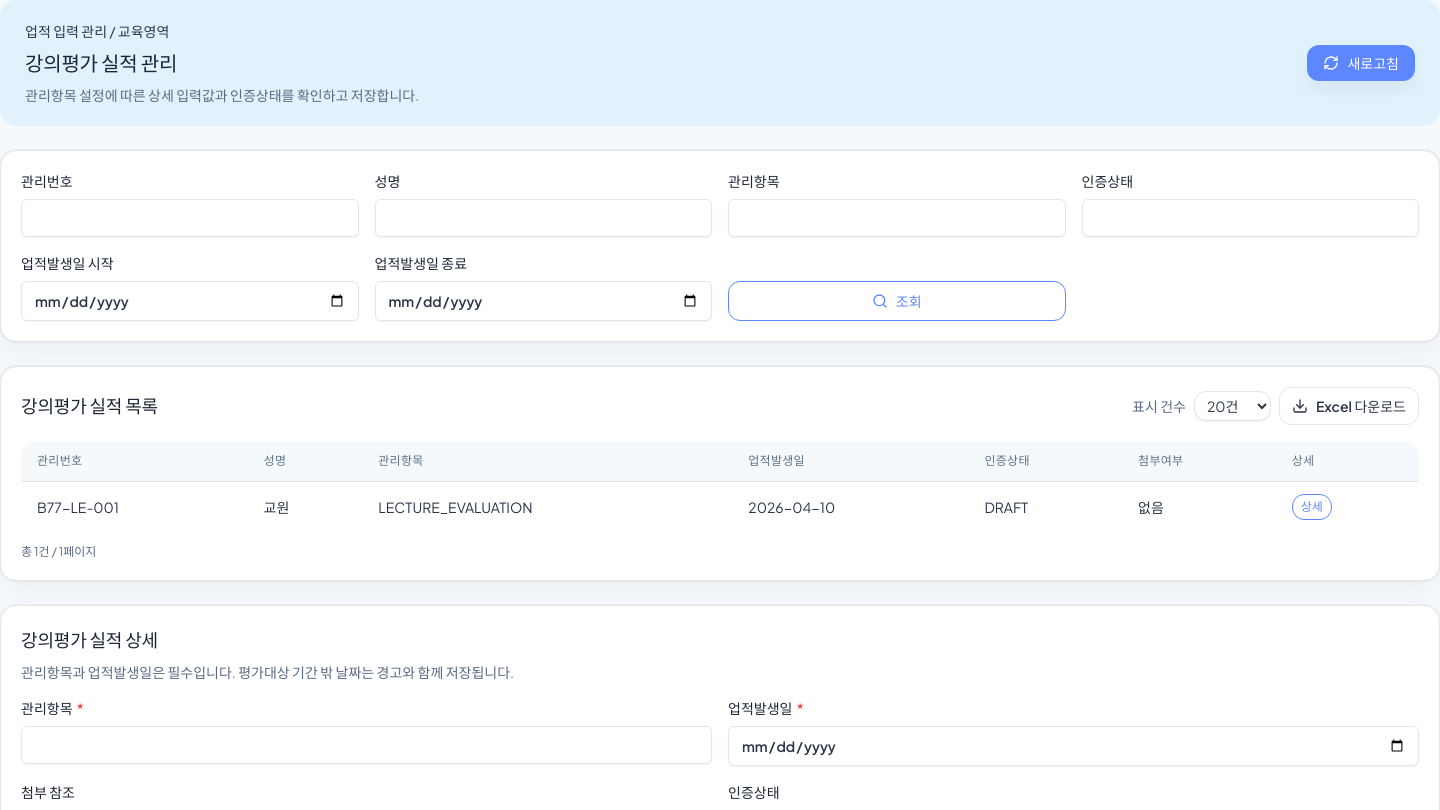
Test: SCR-LECTURE-EVALUATION-ACHIEVEMENT-MGMT › saves the selected dynamic detail and refreshes the list after success
Expected: the text "B77-LE-001" is shown, [21,482,248,532]
Click the button with test id "lecture-evaluation-detail-button": (1312, 507) [1292,494,1332,520]
(page scrolled)
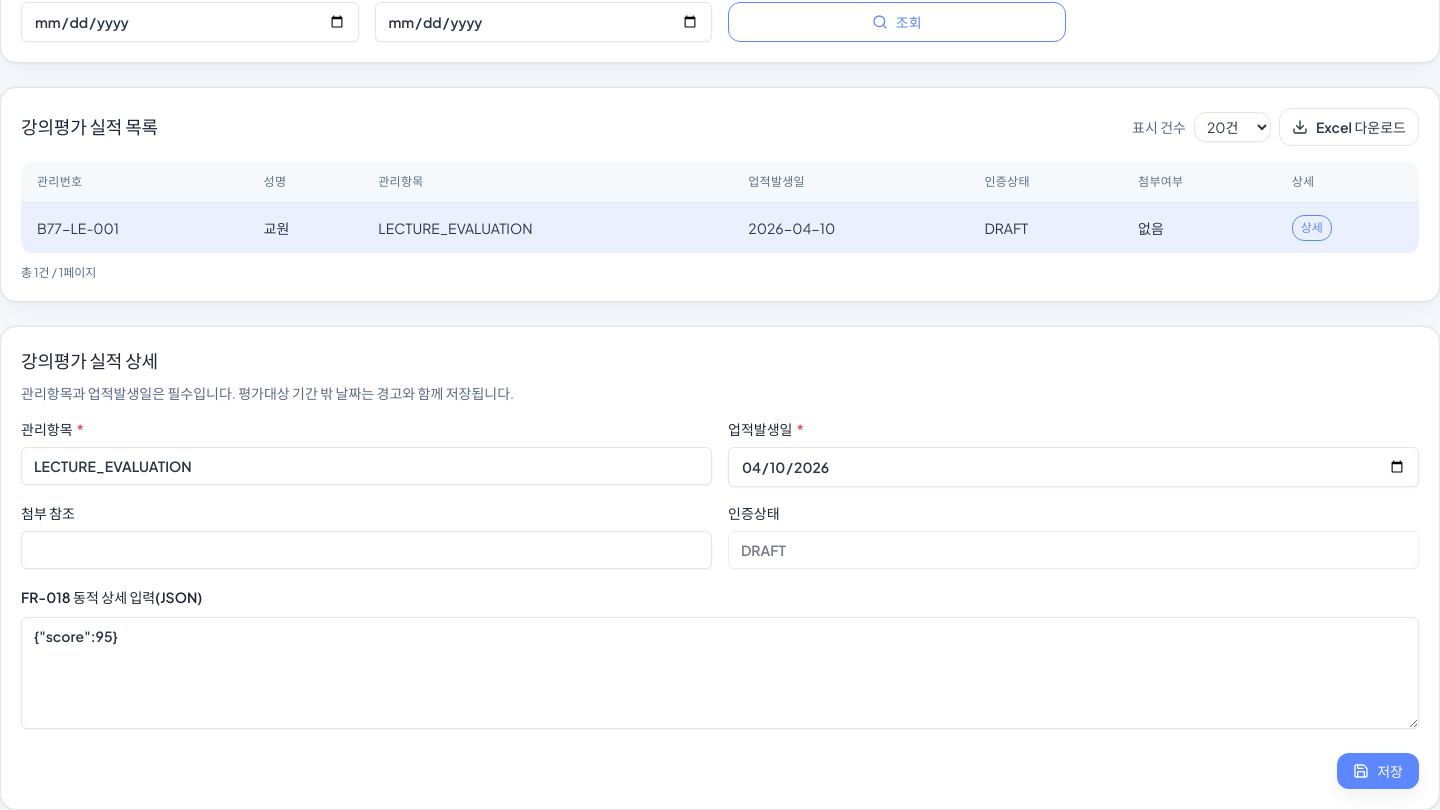
Click the button with test id "lecture-evaluation-save-button": (1378, 771) [1337,753,1419,789]
(page scrolled)
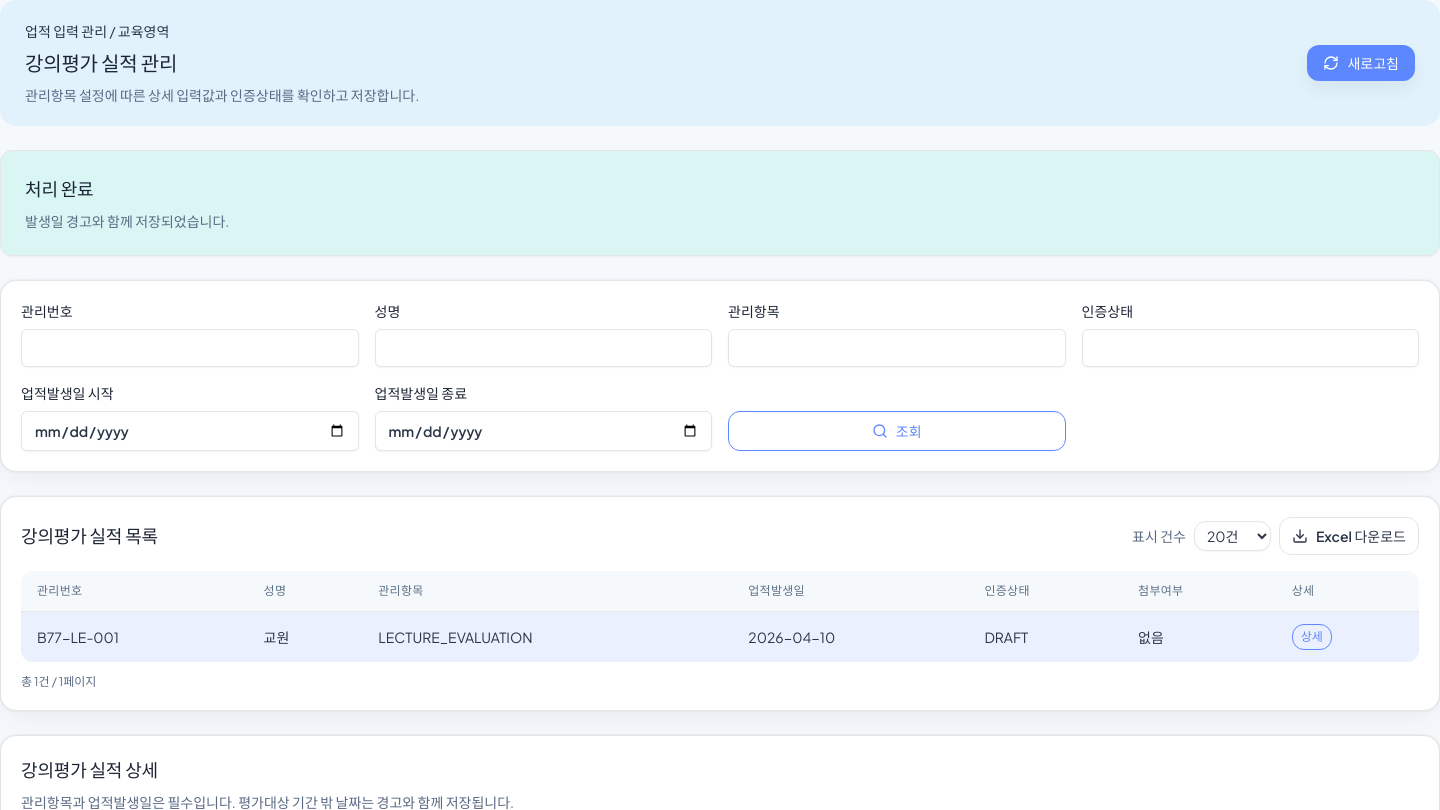
Now the text "발생일 경고와 함께 저장되었습니다." is shown, box [25,212,229,230]
